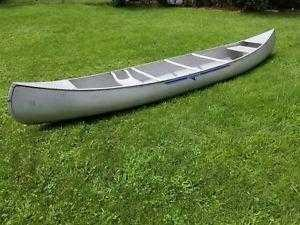kayak: (8, 27, 280, 128)
